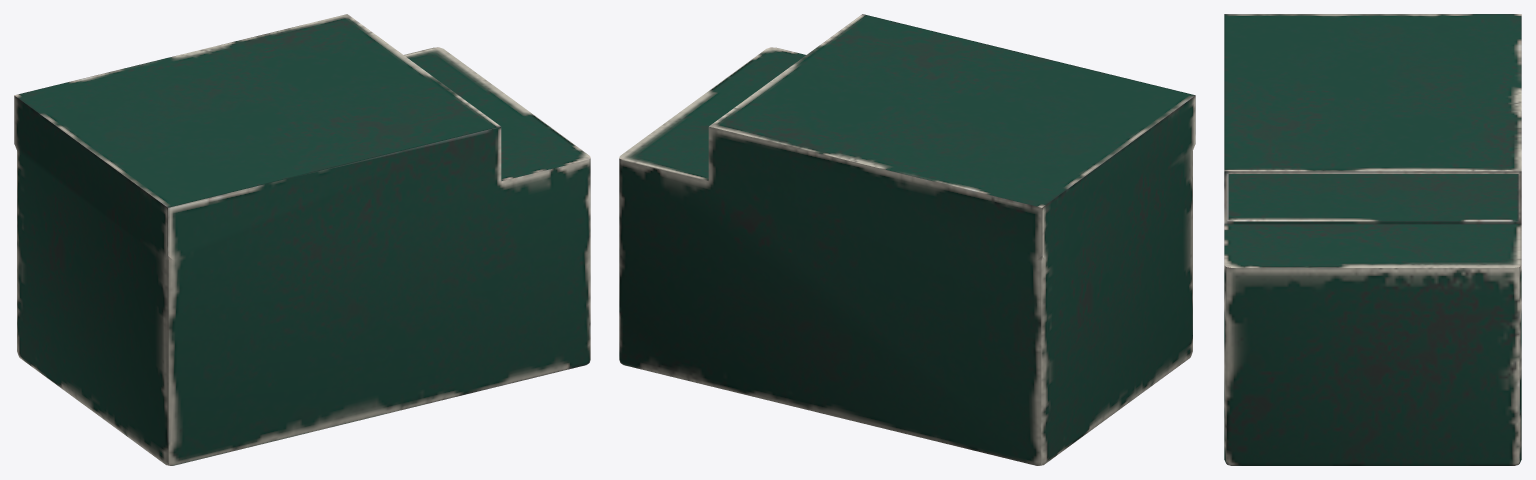
Rendered from 12.7 fiktif ani 2 mag.fbx.
3 renders of one model, left to right at view 1: azimuth 30°, elevation 25°; view 2: azimuth 150°, elevation 25°; view 3: azimuth 270°, elevation 25°, orthographic. The views are drawn at different scales.
Parts seen in each view (by area): view 1: ammo box; view 2: ammo box; view 3: ammo box.
Boxes of the visible parts, <box> form: ammo box: <box>14,14,590,465</box>; ammo box: <box>619,14,1195,465</box>; ammo box: <box>1224,14,1521,465</box>.
Size of the model in its own units: 0.2303 by 0.1356 by 0.1441.
